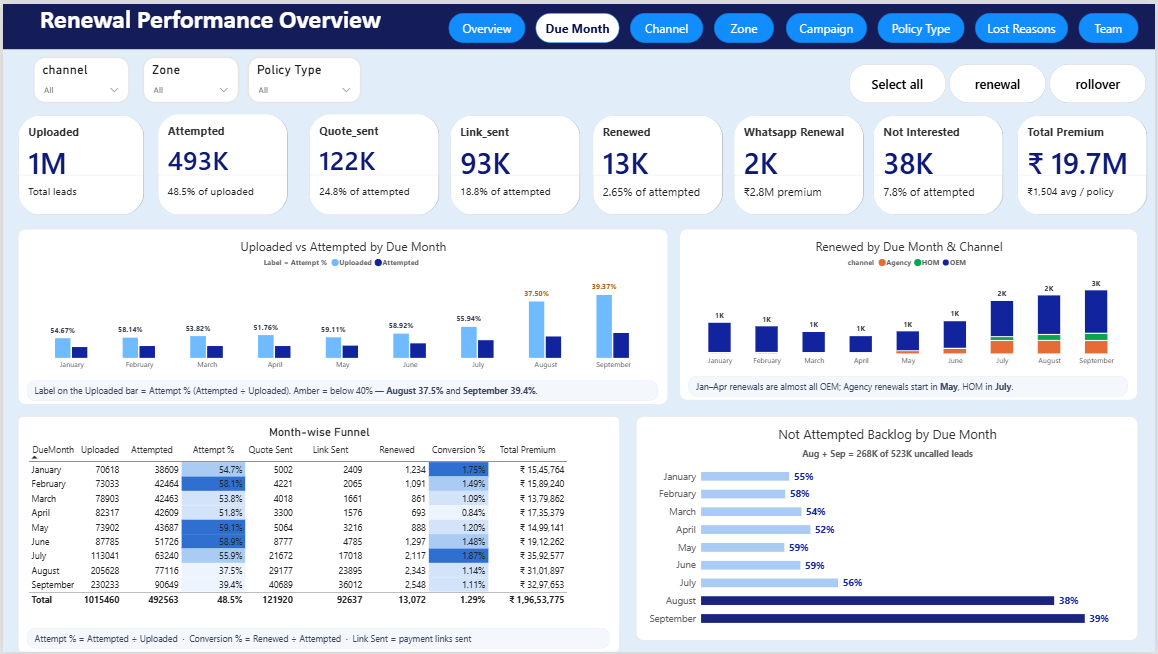

This screenshot's page, from the dashboard's own definition file:
{"tool":"powerbi","page":{"name":"Due Month","canvas":[1920,1080],"ordinal":1},"visuals":[{"type":"textbox","box":[0,0,1920,75],"z":0},{"type":"shape","box":[742.5,13.7,128,50],"z":1000,"group":"g1"},{"type":"advancedSlicerVisual","fields":{"Values":["RAW DATA(JAN-SEPT).campignname"]},"box":[1410,100,497.5,65],"z":1000},{"type":"cardVisual","fields":{"Data":["CountNonNull(RAW DATA(JAN-SEPT).assigned_id)"]},"box":[24.4,184.4,210.3,167.5],"z":1000,"group":"g2"},{"type":"group","id":"g1","title":"Group 1","box":[742.5,12.5,1150,52.5],"z":2000},{"type":"shape","box":[888.4,13.7,140,50],"z":2000,"group":"g1"},{"type":"cardVisual","fields":{"Data":["RAW DATA(JAN-SEPT).Attempted"]},"box":[256.4,183,217.6,170.8],"z":2000,"group":"g2"},{"type":"shape","box":[1046.2,13.7,122,50],"z":3000,"group":"g1"},{"type":"group","id":"g2","title":"Group 2","box":[24.4,183,1883.5,170.8],"z":3000},{"type":"shape","box":[1186.1,13.7,100,50],"z":4000,"group":"g1"},{"type":"slicer","fields":{"Values":["RAW DATA(JAN-SEPT).channel"]},"box":[48.8,87.8,161,78.1],"z":4000,"group":"g3"},{"type":"clusteredColumnChart","title":"Uploaded vs Attempted by Due Month","fields":{"Category":["RAW DATA(JAN-SEPT).DueMonth"],"Y":["CountNonNull(RAW DATA(JAN-SEPT).assigned_id)","RAW DATA(JAN-SEPT).Attempted"]},"box":[24.4,375.7,1083.3,292.8],"z":4000},{"type":"shape","box":[1303.9,13.7,135,50],"z":5000,"group":"g1"},{"type":"slicer","fields":{"Values":["RAW DATA(JAN-SEPT).dealerzone"]},"box":[231.8,87.8,161,78.1],"z":5000,"group":"g3"},{"type":"cardVisual","fields":{"Data":["RAW DATA(JAN-SEPT).Link_sent_count"]},"box":[744.8,185,217.9,167.5],"z":5000,"group":"g2"},{"type":"columnChart","title":"Renewed by Due Month & Channel","fields":{"Category":["RAW DATA(JAN-SEPT).DueMonth"],"Series":["RAW DATA(JAN-SEPT).channel"],"Y":["RAW DATA(JAN-SEPT).Renewed"]},"box":[1127.2,375.7,763.7,285.5],"z":5000},{"type":"shape","box":[1456.8,13.7,145,50],"z":6000,"group":"g1"},{"type":"group","id":"g3","title":"Group 3","box":[48.8,87.8,549,78.1],"z":6000},{"type":"slicer","fields":{"Values":["RAW DATA(JAN-SEPT).renewal_type"]},"box":[407.5,87.8,190.3,78.1],"z":6000,"group":"g3"},{"type":"cardVisual","fields":{"Data":["RAW DATA(JAN-SEPT).Renewed"]},"box":[983,185,217.9,167.5],"z":6000,"group":"g2"},{"type":"shape","box":[1619.6,13.7,155,50],"z":7000,"group":"g1"},{"type":"tableEx","title":"Month-wise Funnel","fields":{"Values":["RAW DATA(JAN-SEPT).DueMonth","CountNonNull(RAW DATA(JAN-SEPT).assigned_id)","RAW DATA(JAN-SEPT).Attempted","RAW DATA(JAN-SEPT).Attempt %","RAW DATA(JAN-SEPT).Quote_sent","RAW DATA(JAN-SEPT).Link_sent_count","RAW DATA(JAN-SEPT).Renewed","RAW DATA(JAN-SEPT).Conversion %","RAW DATA(JAN-SEPT).Total Premium"]},"box":[24.4,687,1002.8,392.8],"z":7000},{"type":"shape","box":[1792.5,13.7,100,50],"z":8000,"group":"g1"},{"type":"clusteredBarChart","title":"Not Attempted Backlog by Due Month","fields":{"Category":["RAW DATA(JAN-SEPT).DueMonth"],"Y":["RAW DATA(JAN-SEPT).Not Attempted"]},"box":[1054,688,836.9,373.3],"z":8000},{"type":"cardVisual","fields":{"Data":["RAW DATA(JAN-SEPT).Whatsapp_renewal_count"]},"box":[1216.1,185,217.9,167.5],"z":10000,"group":"g2"},{"type":"cardVisual","fields":{"Data":["RAW DATA(JAN-SEPT).Not Interested"]},"box":[1449.3,185,217.9,167.5],"z":11000,"group":"g2"},{"type":"cardVisual","fields":{"Data":["RAW DATA(JAN-SEPT).Total Premium"]},"box":[1690,185,217.9,167.5],"z":12000,"group":"g2"},{"type":"cardVisual","fields":{"Data":["RAW DATA(JAN-SEPT).Quote_sent"]},"box":[508.6,183,217.6,170.8],"z":12009,"group":"g2"},{"type":"textbox","box":[40.4,626.5,1051.3,34],"z":12109},{"type":"textbox","box":[1143.2,619.2,731.7,34],"z":12209},{"type":"textbox","box":[40.4,1039.8,970.8,34],"z":12309}]}

Visuals, with their boxes in screenshot pixels (x1, y1, x2, y2), scaled from the page's 1920x1080 canvas onto the 1158x654 screenshot:
textbox: bbox(0, 0, 1157, 45)
shape: bbox(448, 8, 525, 39)
advancedSlicerVisual - RAW DATA(JAN-SEPT).campignname: bbox(850, 61, 1150, 100)
cardVisual - CountNonNull(RAW DATA(JAN-SEPT).assigned_id): bbox(15, 112, 142, 213)
"Group 1" group: bbox(448, 8, 1141, 39)
shape: bbox(536, 8, 620, 39)
cardVisual - RAW DATA(JAN-SEPT).Attempted: bbox(155, 111, 286, 214)
shape: bbox(631, 8, 705, 39)
"Group 2" group: bbox(15, 111, 1151, 214)
shape: bbox(715, 8, 776, 39)
slicer - RAW DATA(JAN-SEPT).channel: bbox(29, 53, 127, 100)
"Uploaded vs Attempted by Due Month" clusteredColumnChart: bbox(15, 228, 668, 405)
shape: bbox(786, 8, 868, 39)
slicer - RAW DATA(JAN-SEPT).dealerzone: bbox(140, 53, 237, 100)
cardVisual - RAW DATA(JAN-SEPT).Link_sent_count: bbox(449, 112, 581, 213)
"Renewed by Due Month & Channel" columnChart: bbox(680, 228, 1140, 400)
shape: bbox(879, 8, 966, 39)
"Group 3" group: bbox(29, 53, 361, 100)
slicer - RAW DATA(JAN-SEPT).renewal_type: bbox(246, 53, 361, 100)
cardVisual - RAW DATA(JAN-SEPT).Renewed: bbox(593, 112, 724, 213)
shape: bbox(977, 8, 1070, 39)
"Month-wise Funnel" tableEx: bbox(15, 416, 620, 653)
shape: bbox(1081, 8, 1141, 39)
"Not Attempted Backlog by Due Month" clusteredBarChart: bbox(636, 417, 1140, 643)
cardVisual - RAW DATA(JAN-SEPT).Whatsapp_renewal_count: bbox(733, 112, 865, 213)
cardVisual - RAW DATA(JAN-SEPT).Not Interested: bbox(874, 112, 1006, 213)
cardVisual - RAW DATA(JAN-SEPT).Total Premium: bbox(1019, 112, 1151, 213)
cardVisual - RAW DATA(JAN-SEPT).Quote_sent: bbox(307, 111, 438, 214)
textbox: bbox(24, 379, 658, 400)
textbox: bbox(689, 375, 1131, 396)
textbox: bbox(24, 630, 610, 650)
